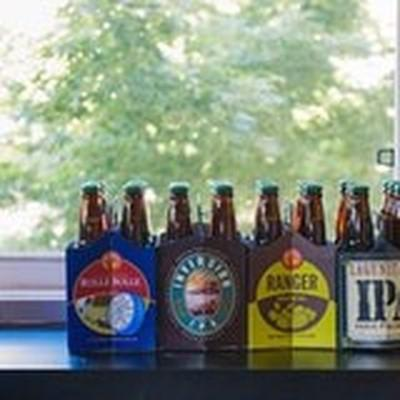beer: (64, 181, 400, 353)
